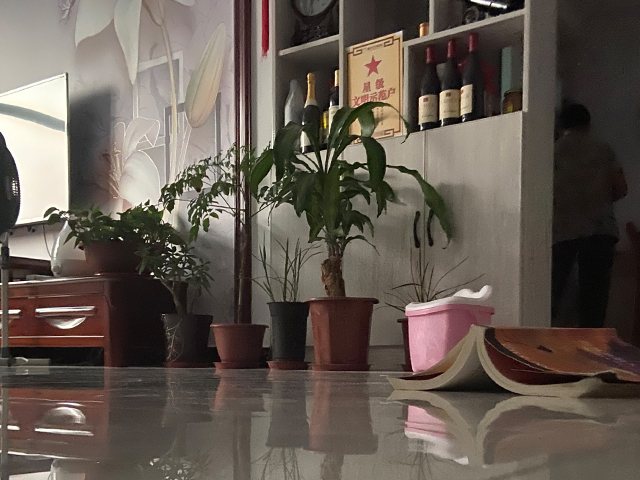book: (379, 323, 640, 401)
cabinet: (269, 110, 556, 369), (7, 274, 188, 368)
